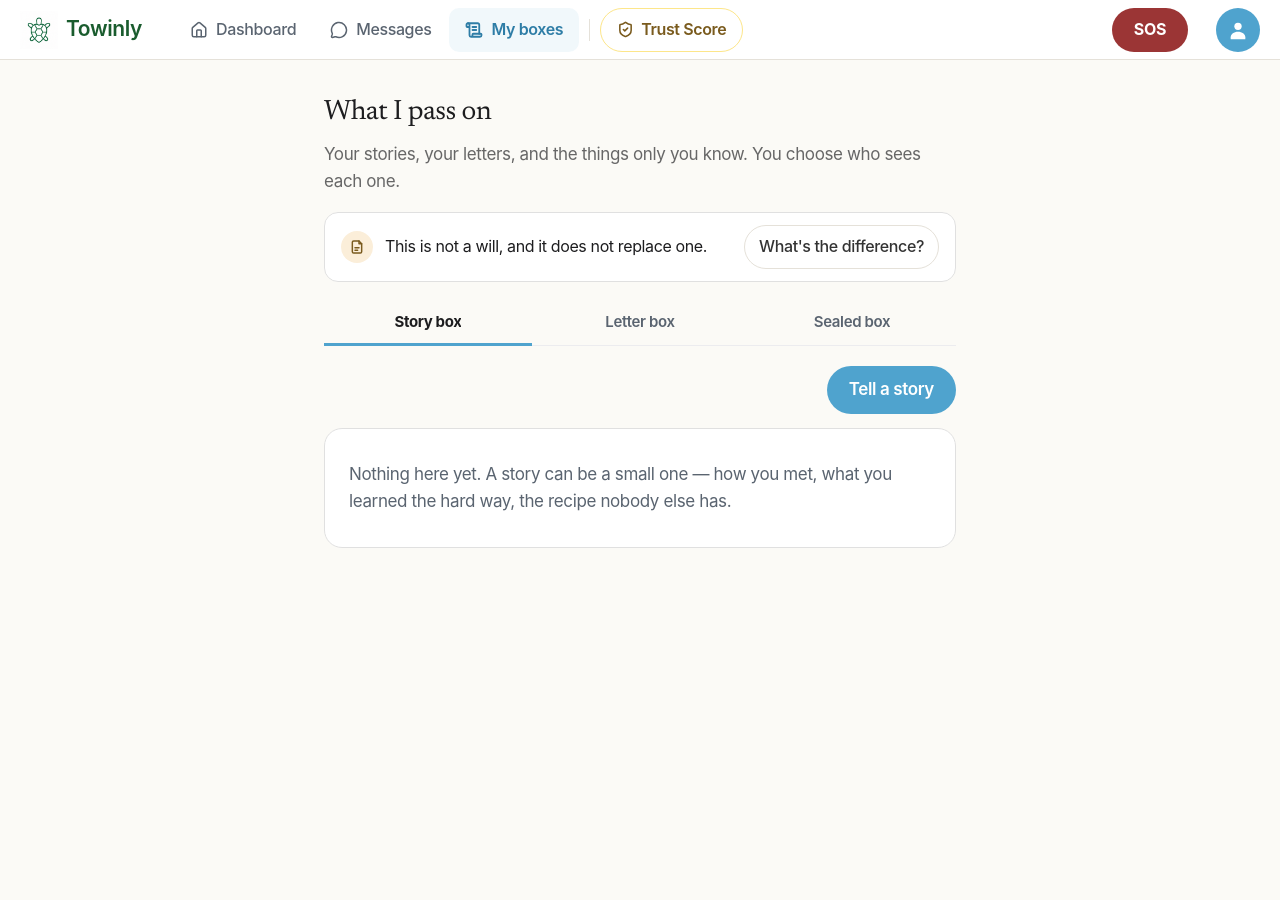
Test: What I pass on — the page itself › says it is not a will, and explains the difference only when asked
The width and height of the screenshot is (1280, 900).
Expected: the text "This is not a will, and it does not replace one." is shown, [385,235,732,258]
Expected: the text "a will decides who gets your money" is not shown
Click the button "What's the difference?". click: (842, 247)
box: [744,225,939,269]
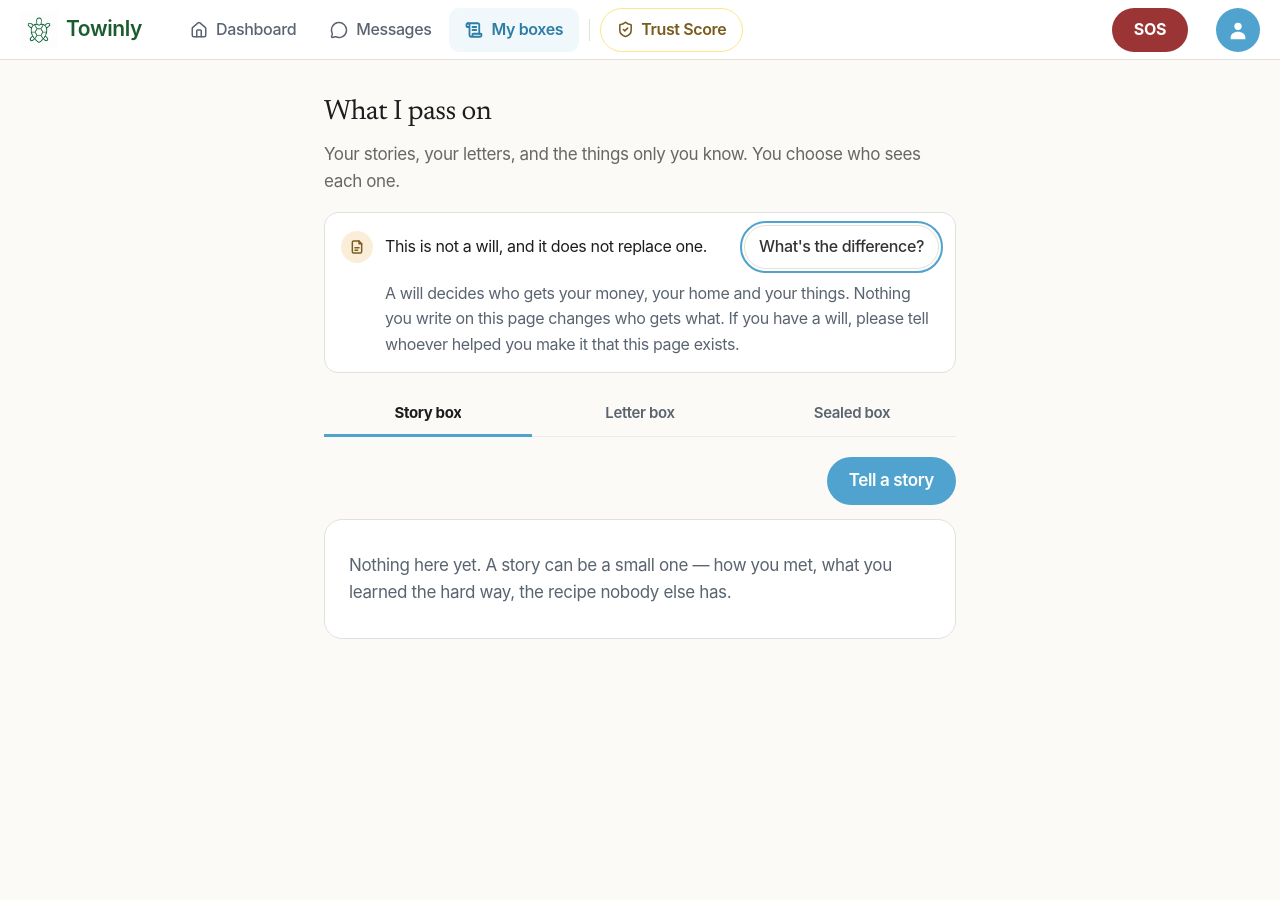
Expected: the text "whoever helped you make it that this page exists." is shown, [385,283,928,354]
